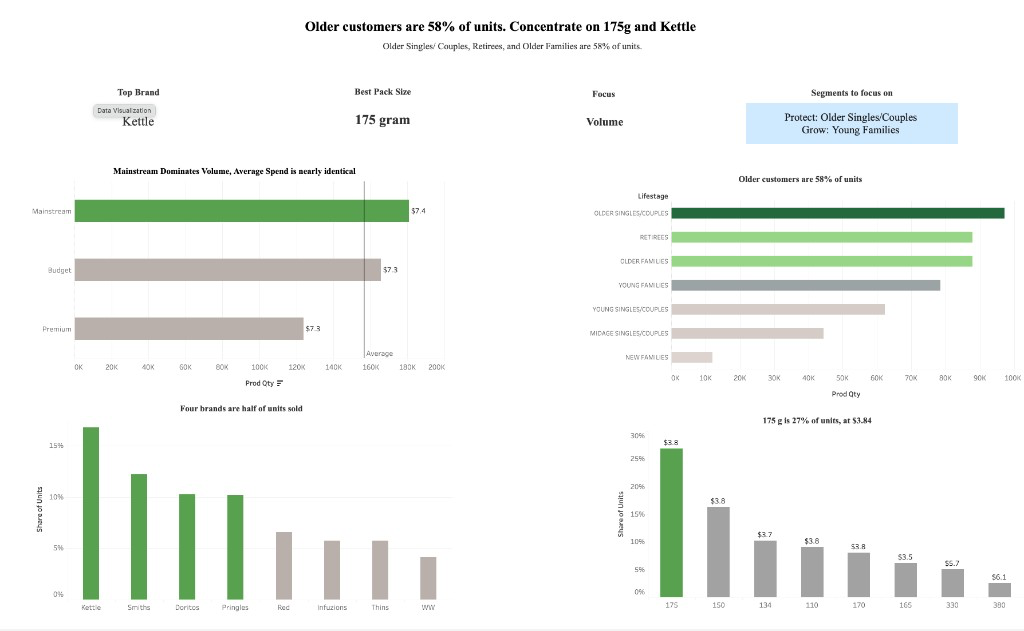

The dashboard page shown, as its layout file describes it:
{"tool":"tableau","page":{"name":"Dashboard 1","canvas":[1000,1000],"units":"permille","ordinal":0},"visuals":[{"type":"text","box":[156.5,16.3,666.7,56]},{"type":"text","box":[266.4,59.5,471,31.5]},{"type":"worksheet","title":"Best Pack Size","mark":"Automatic","box":[283.7,129.5,184.3,94.5]},{"type":"worksheet","title":"TOP BRAND","mark":"Automatic","box":[40.6,130.7,196.4,96.9]},{"type":"worksheet","title":"Segments to Focus on","mark":"Automatic","box":[726.1,131.9,209.9,102.7]},{"type":"worksheet","title":"Focus","mark":"Automatic","box":[502.6,133,177.6,98]},{"type":"worksheet","title":"Customer Segment","mark":"Bar","rows":["PREMIUM_CUSTOMER"],"cols":["PROD_QTY"],"box":[25.6,256.7,412.5,368.7]},{"type":"worksheet","title":"Lifestage","mark":"Automatic","rows":["LIFESTAGE"],"cols":["PROD_QTY"],"box":[564.3,269.5,432.7,373.4]},{"type":"worksheet","title":"Brand Dominance","mark":"Automatic","cols":["BRAND_NAME"],"box":[31.6,632.4,413.9,344.2]},{"type":"worksheet","title":"Pack Size Strategy","mark":"Bar","cols":["SIZE_VALUES(GRAM)"],"box":[595.6,652.3,403.1,320.9]}]}

Visuals, with their boxes on the dashboard's canvas, which has no fixed pixel size, in thousandths of its width and height (x1, y1, x2, y2). These are canvas units, not pixel positions in the 1024x631 screenshot, which may show the page scaled, cropped or inside an application window:
text: (x1=156, y1=16, x2=823, y2=72)
text: (x1=266, y1=60, x2=737, y2=91)
"Best Pack Size" worksheet: (x1=284, y1=130, x2=468, y2=224)
"TOP BRAND" worksheet: (x1=41, y1=131, x2=237, y2=228)
"Segments to Focus on" worksheet: (x1=726, y1=132, x2=936, y2=235)
"Focus" worksheet: (x1=503, y1=133, x2=680, y2=231)
"Customer Segment" worksheet (Bar marks): (x1=26, y1=257, x2=438, y2=625)
"Lifestage" worksheet: (x1=564, y1=270, x2=997, y2=643)
"Brand Dominance" worksheet: (x1=32, y1=632, x2=446, y2=977)
"Pack Size Strategy" worksheet (Bar marks): (x1=596, y1=652, x2=999, y2=973)
